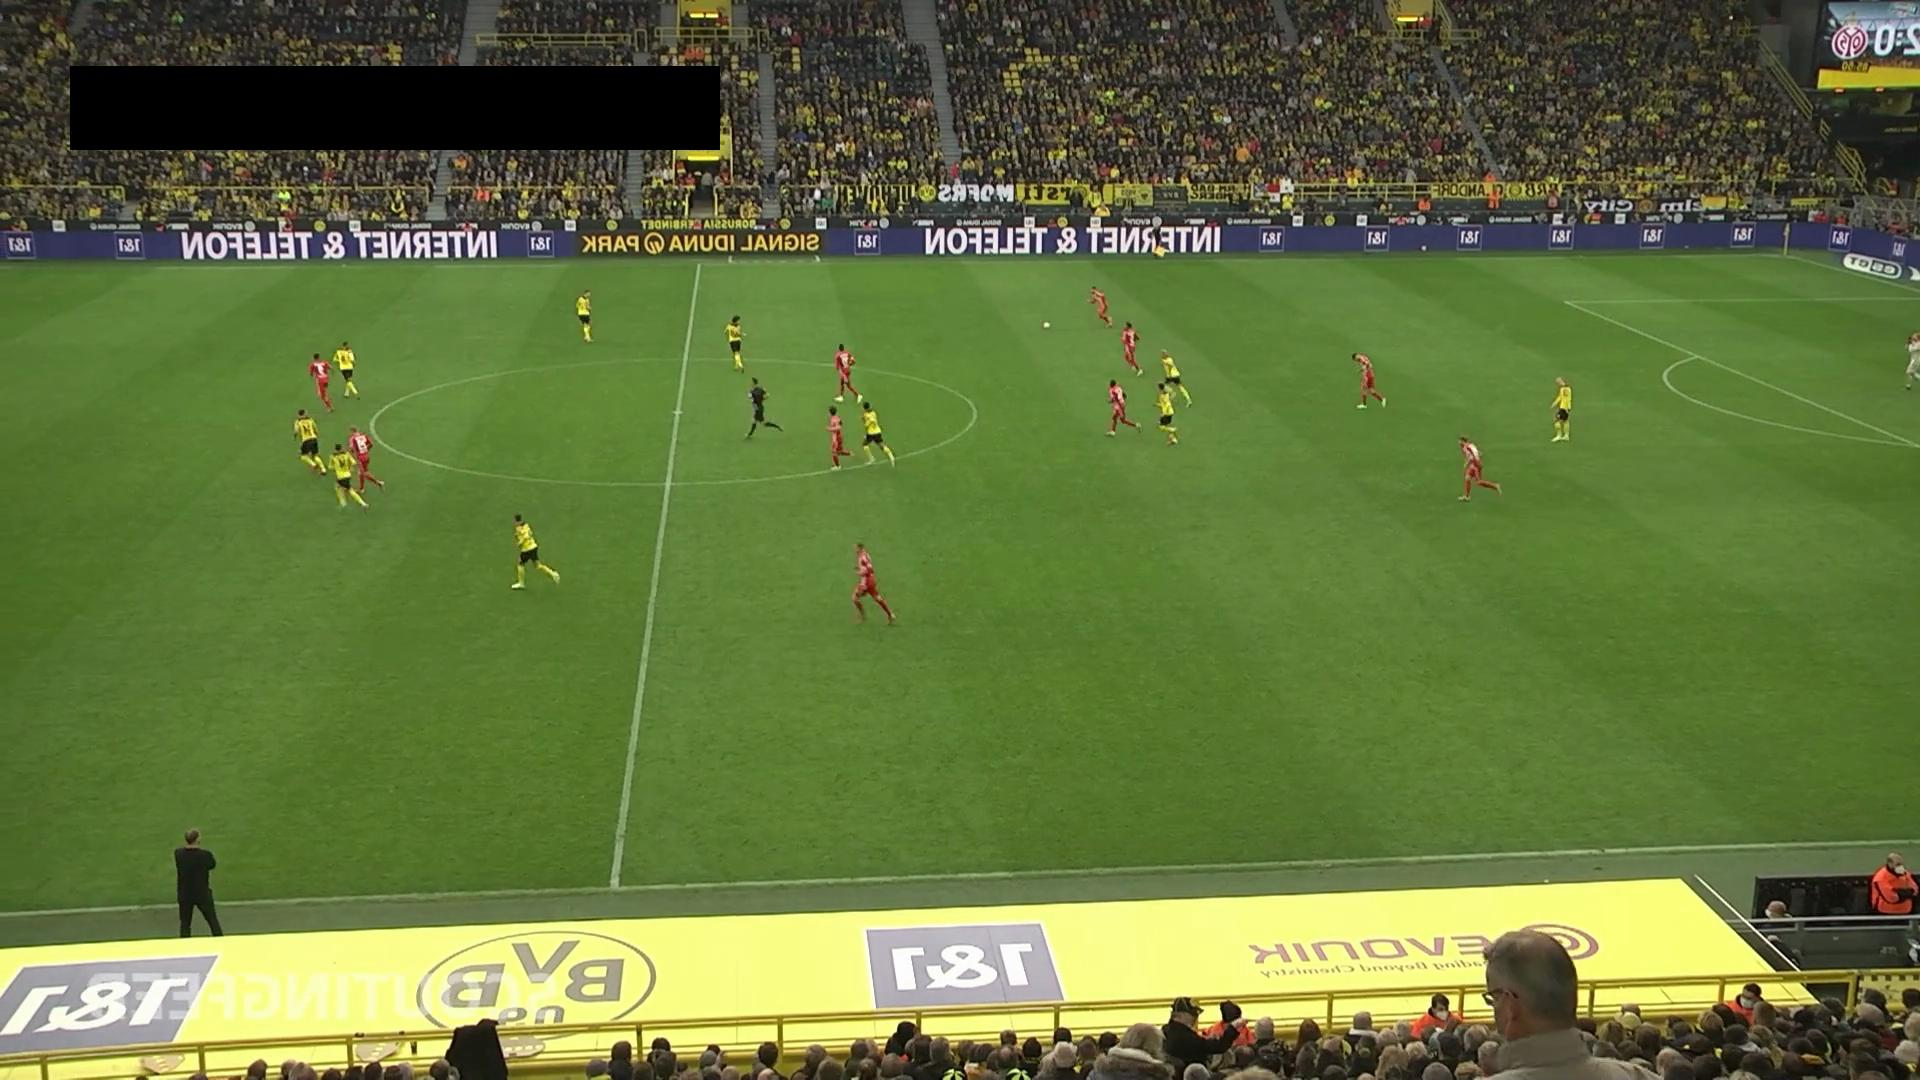ball: (1041, 319, 1052, 331)
goalkeeper: (1902, 331, 1920, 390)
player: (510, 512, 560, 590), (851, 541, 897, 625), (1455, 434, 1503, 501), (328, 442, 368, 513), (348, 426, 385, 496), (293, 407, 329, 477), (860, 400, 896, 469), (1104, 379, 1142, 437), (825, 405, 856, 472), (1159, 348, 1192, 408), (1351, 352, 1386, 408), (833, 342, 862, 402), (1154, 381, 1180, 446), (308, 351, 334, 414), (1549, 376, 1573, 442), (332, 340, 359, 398), (1120, 320, 1144, 377), (725, 314, 746, 373), (1086, 286, 1113, 327), (575, 289, 593, 343)
referee: (743, 376, 783, 440), (1148, 219, 1170, 262)
